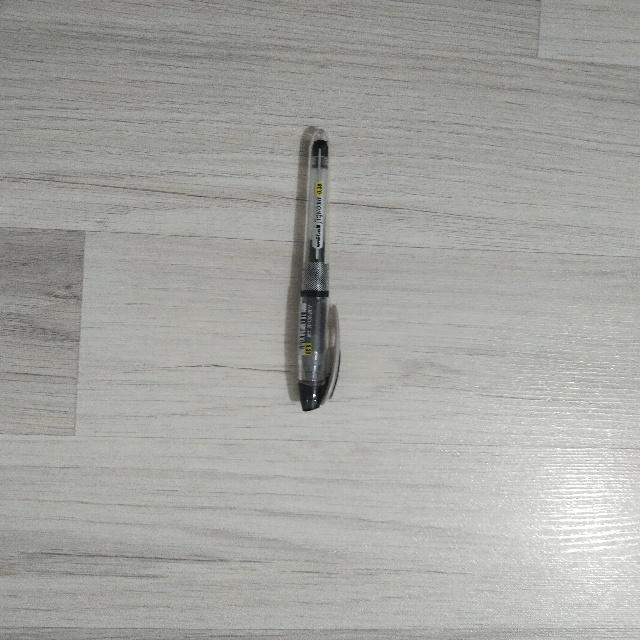pen: (298, 129, 339, 410)
